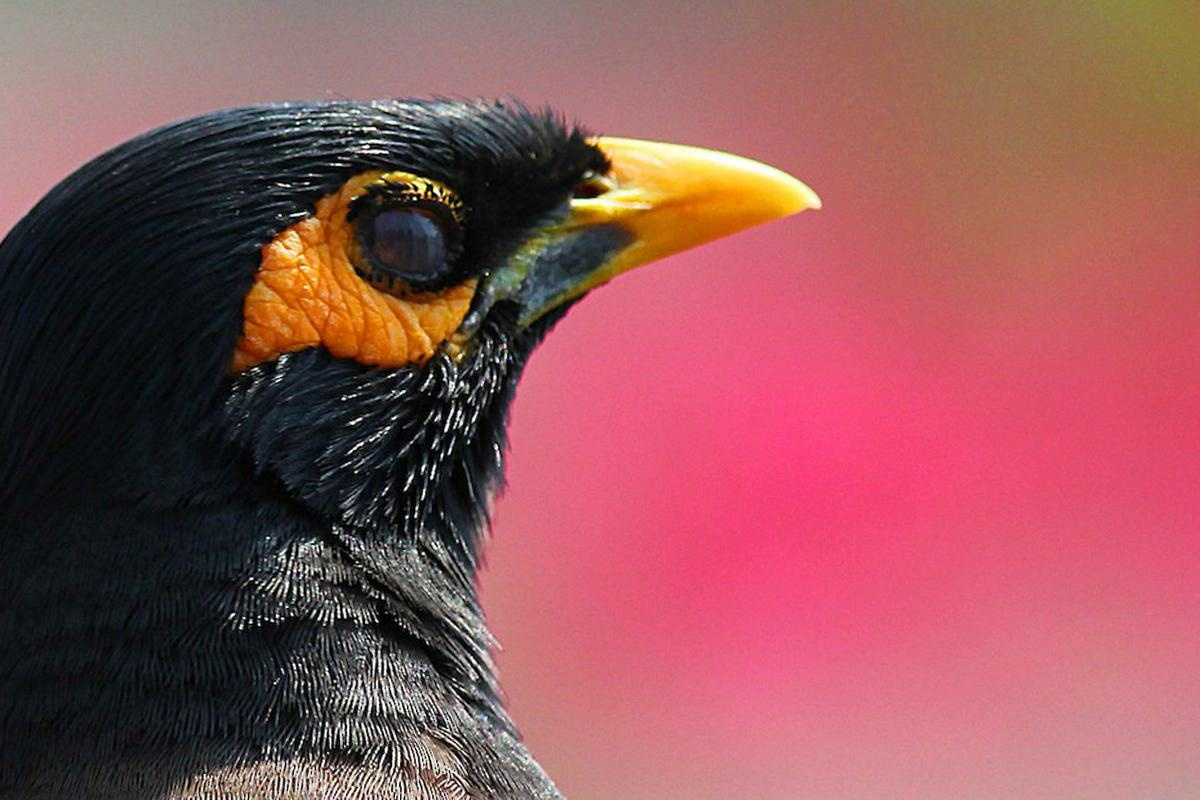myna: (1, 66, 883, 800)
